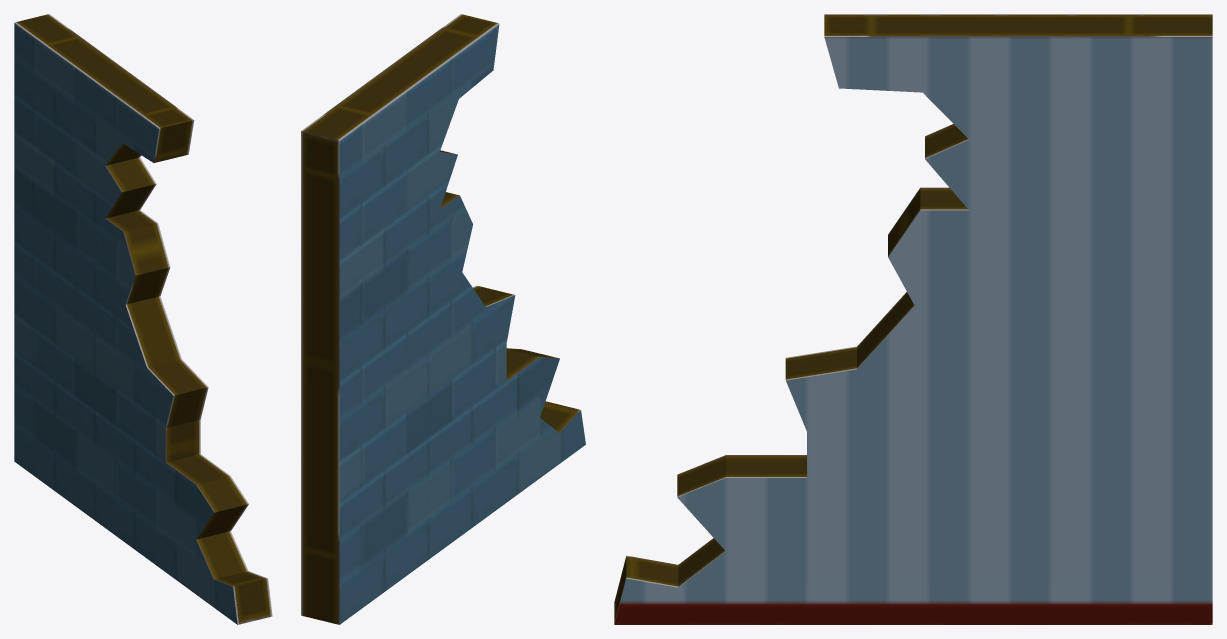
File: Wall_Broken_L_07.fbx
3 views of the same model, side by side, from view 1: azimuth 30°, elevation 25°; view 2: azimuth 150°, elevation 25°; view 3: azimuth 270°, elevation 25° (orthographic). The views are drawn at different scales.
Parts seen in each view (by area): view 1: Wall_Broken_L_07; view 2: Wall_Broken_L_07; view 3: Wall_Broken_L_07.
Part boxes in pixels (box(x1,y1,x2,y2)): Wall_Broken_L_07: box(14, 14, 272, 624); Wall_Broken_L_07: box(301, 14, 585, 624); Wall_Broken_L_07: box(614, 14, 1212, 624).
Size of the model in its own units: 50 by 600 by 553.
